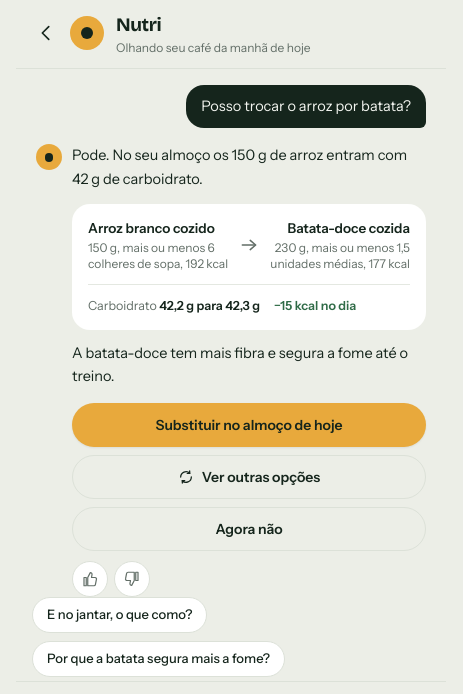
Test: Chat do Nutri (S14) › duplo toque em "Substituir" faz uma requisição só
Double-click the button "Substituir no almoço de hoje" at {"x": 249, "y": 425}, box [72,403,426,447]
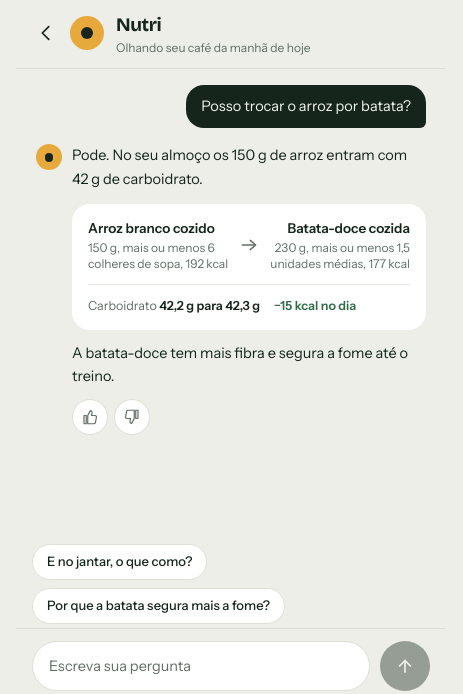
Now the button "Substituir no almoço de hoje" is gone
